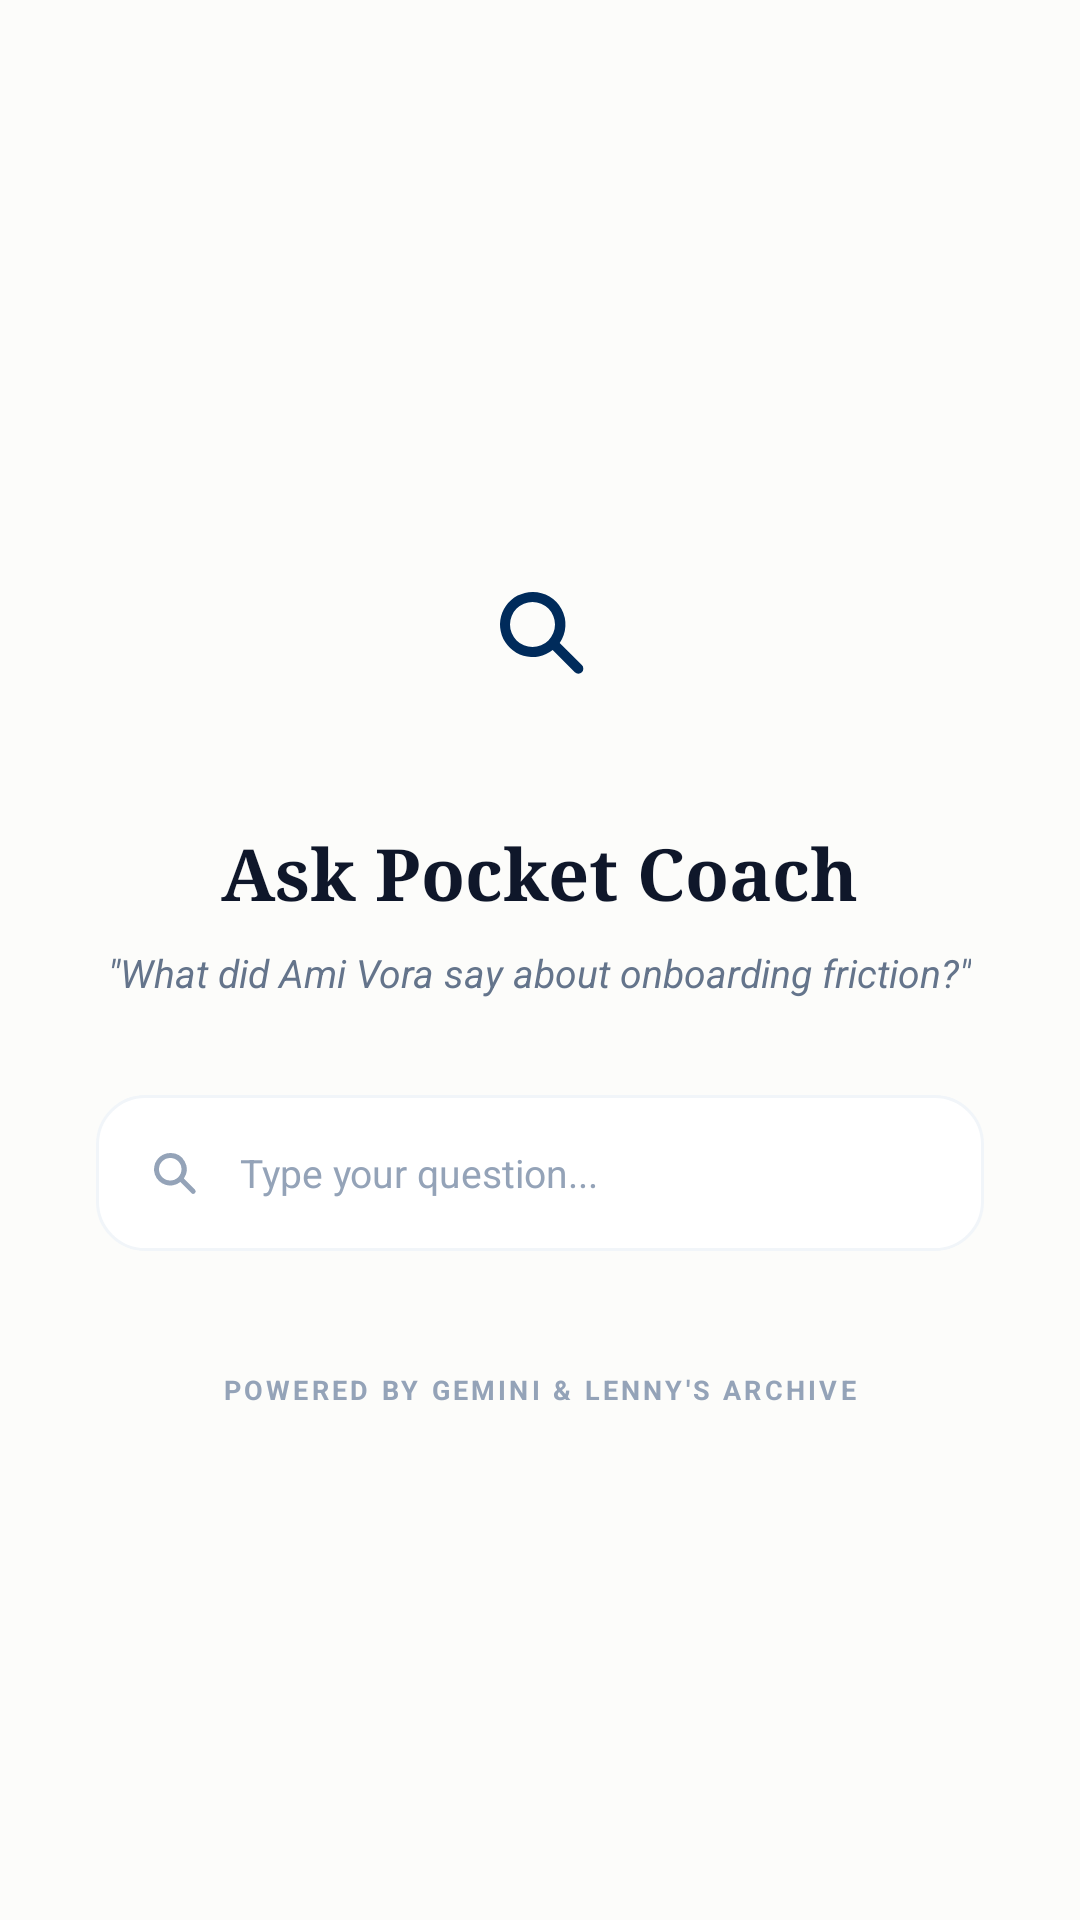

Point at icon controls on the screen. Image size 1080px x 1920px, points as (x=x, y=y).
search: (x=542, y=633), (x=175, y=1173)
